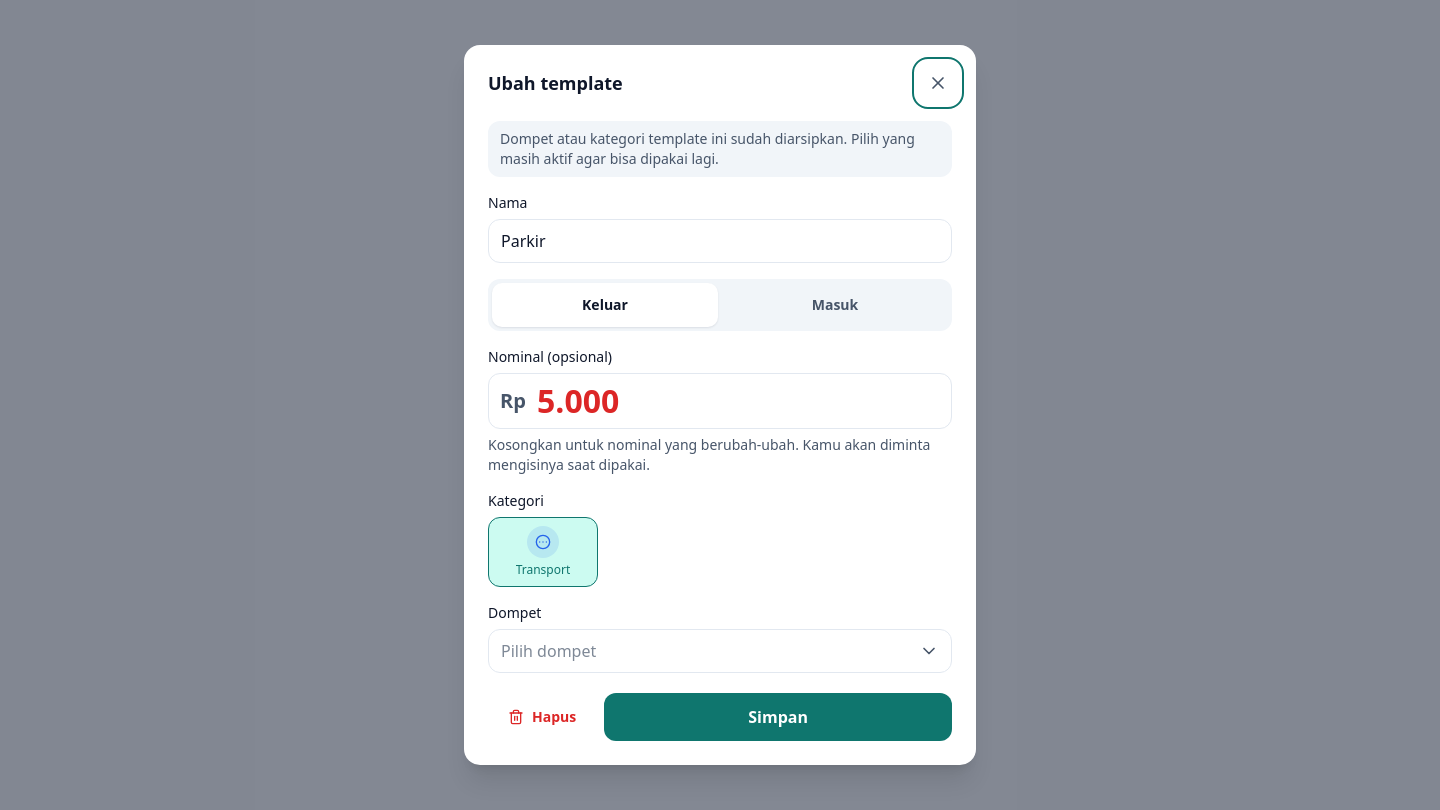
Test: TemplateSheet › template dengan dompet diarsipkan meminta memilih dompet aktif
The width and height of the screenshot is (1440, 810).
Expected: the text "sudah diarsipkan" is shown, x1=500 y1=129 x2=915 y2=168
Click the button "Simpan".
click(778, 717)  # box x1=604 y1=693 x2=952 y2=741
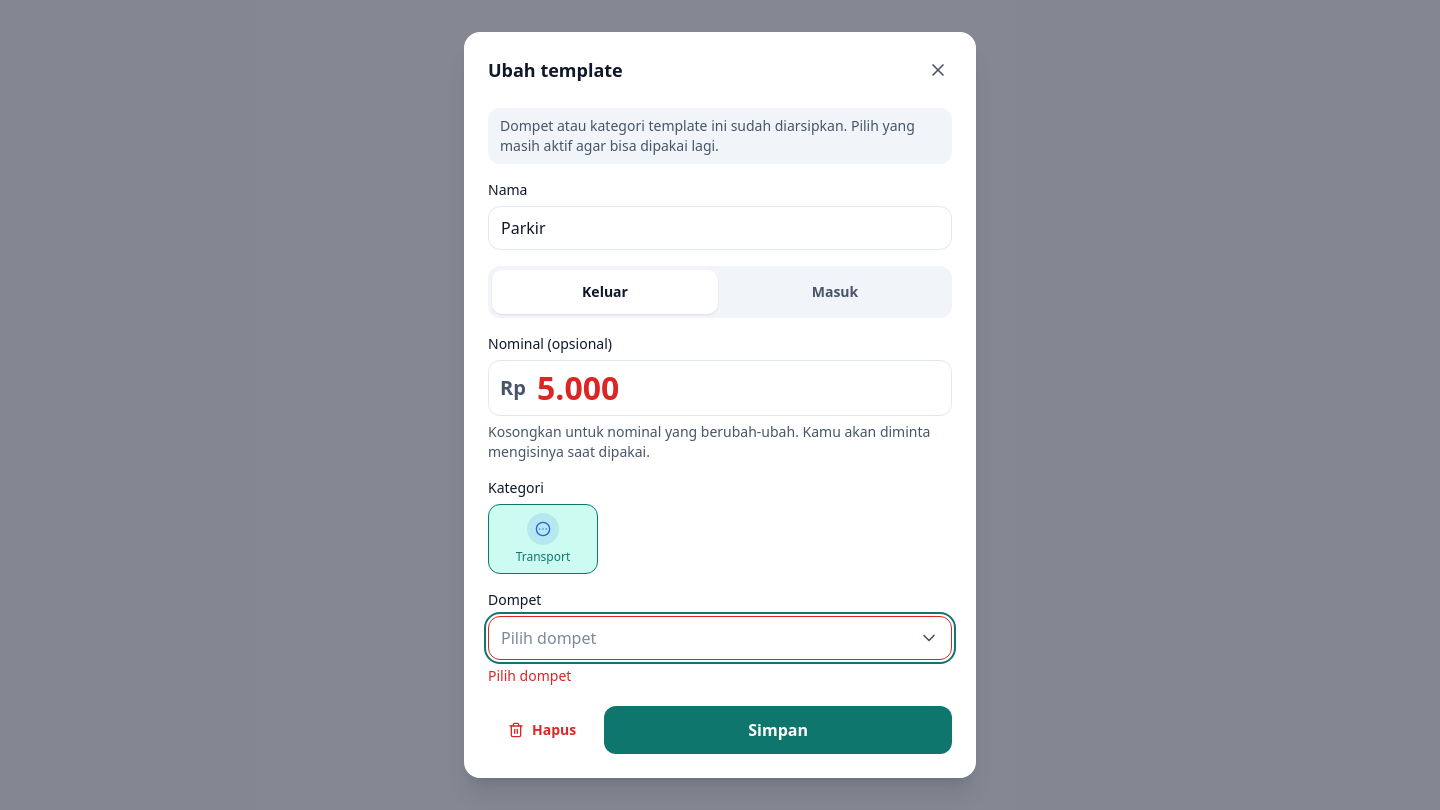
Now the text "Pilih dompet" is shown, box x1=488 y1=666 x2=571 y2=685
